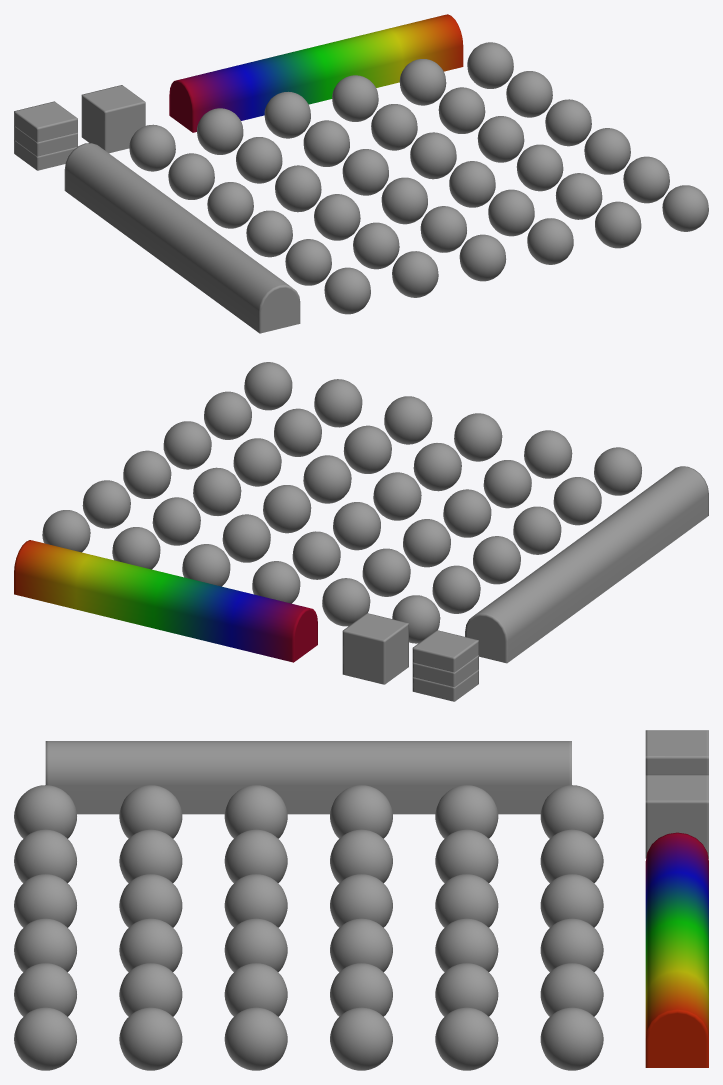
3 renders of one model, top to bottom at view 1: azimuth 30°, elevation 25°; view 2: azimuth 150°, elevation 25°; view 3: azimuth 270°, elevation 25°, orthographic. The views are drawn at different scales.
Visible parts, largest first — view 1: PBRModel3; view 2: PBRModel3; view 3: PBRModel3.
Boxes of the visible parts, x1=… form: PBRModel3: x1=14, y1=14, x2=708, y2=333; PBRModel3: x1=14, y1=362, x2=708, y2=701; PBRModel3: x1=14, y1=730, x2=708, y2=1070.
Size of the model in its own units: 2.2 by 0.2 by 2.2.
Materials: 1 (1 with a texture image).
